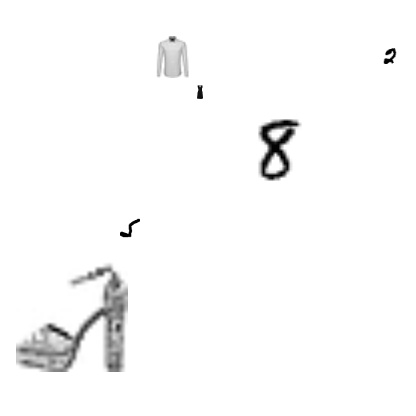2: (379, 45, 401, 67)
5: (115, 215, 143, 243)
8: (232, 102, 316, 186)
Dress: (193, 85, 207, 99)
Sandal: (16, 260, 128, 372)
Shirt: (151, 36, 193, 78)
